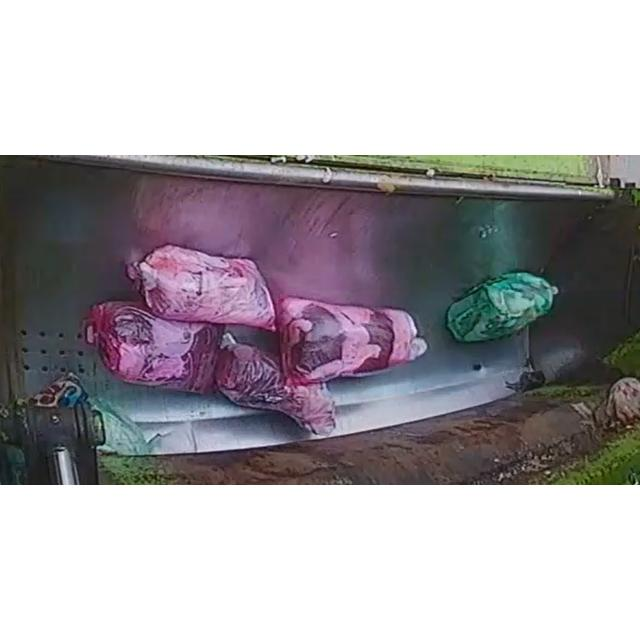general_trashbag: (446, 272, 559, 342)
other_trashbag: (275, 298, 426, 384), (126, 245, 276, 331), (215, 332, 335, 434), (90, 301, 219, 392)
